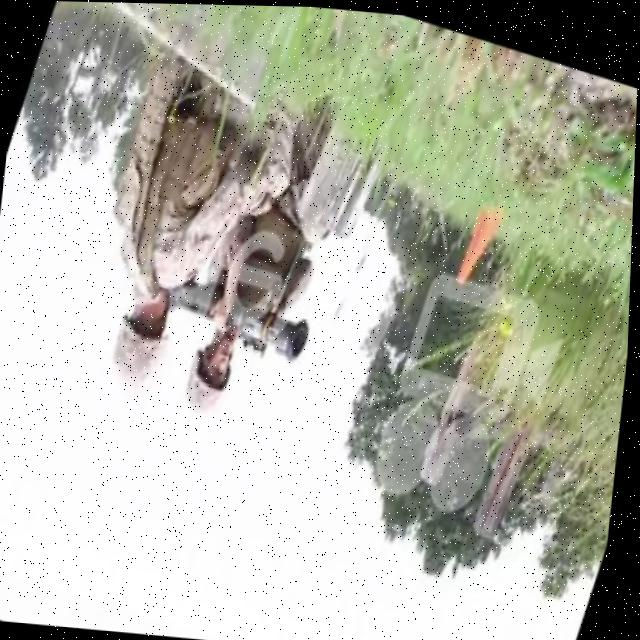rocket: (162, 275, 316, 362)
